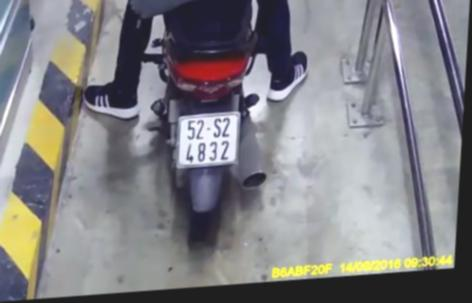License_Plate: (172, 108, 244, 174)
